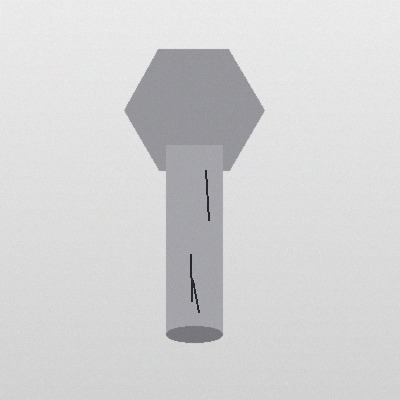scratch: (199, 166, 214, 224), (186, 276, 204, 316), (184, 250, 197, 305)
